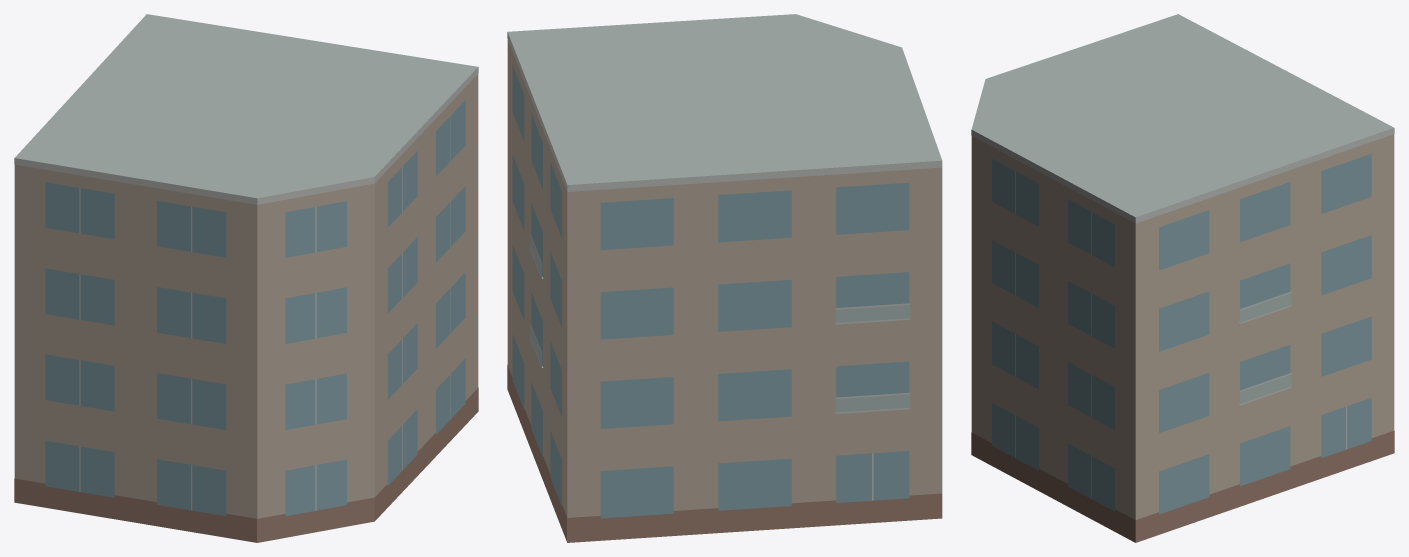
The model's file is survey-upis-32768566.glb.
3 renders of one model, left to right at view 1: azimuth 30°, elevation 25°; view 2: azimuth 150°, elevation 25°; view 3: azimuth 270°, elevation 25°, orthographic. The views are drawn at different scales.
Visible parts, largest first — view 1: survey-upis-32768566.tmp; view 2: survey-upis-32768566.tmp; view 3: survey-upis-32768566.tmp.
Part boxes in pixels (x1,y1,x2,y2): survey-upis-32768566.tmp: [14, 14, 478, 542]; survey-upis-32768566.tmp: [507, 14, 942, 542]; survey-upis-32768566.tmp: [971, 14, 1394, 542].
Bounding box in the file's own units: 17.17 × 12.8 × 15.09.
